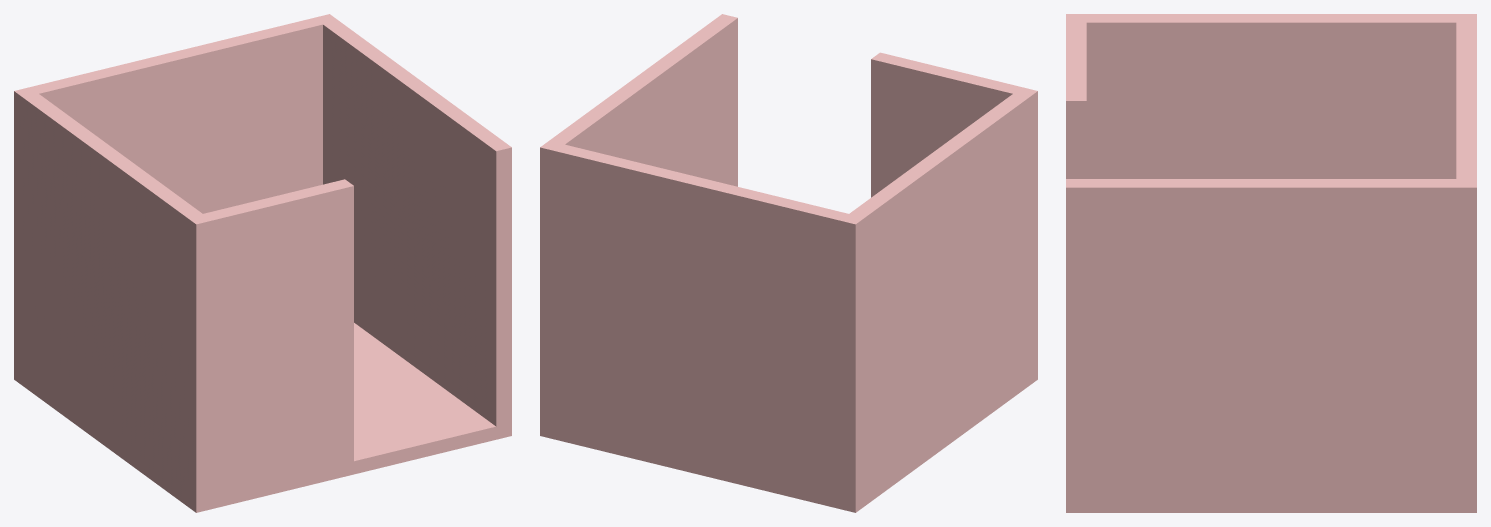
3 renders of one model, left to right at view 1: azimuth 30°, elevation 25°; view 2: azimuth 150°, elevation 25°; view 3: azimuth 270°, elevation 25°, orthographic. The views are drawn at different scales.
Visible parts, largest first — view 1: root; view 2: root; view 3: root.
Part boxes in pixels (left/top/right/bottom): root: left=14, top=14, right=511, bottom=512; root: left=540, top=14, right=1037, bottom=512; root: left=1066, top=14, right=1476, bottom=512.
Bounding box in the file's own units: 3 × 2.62 × 3.
